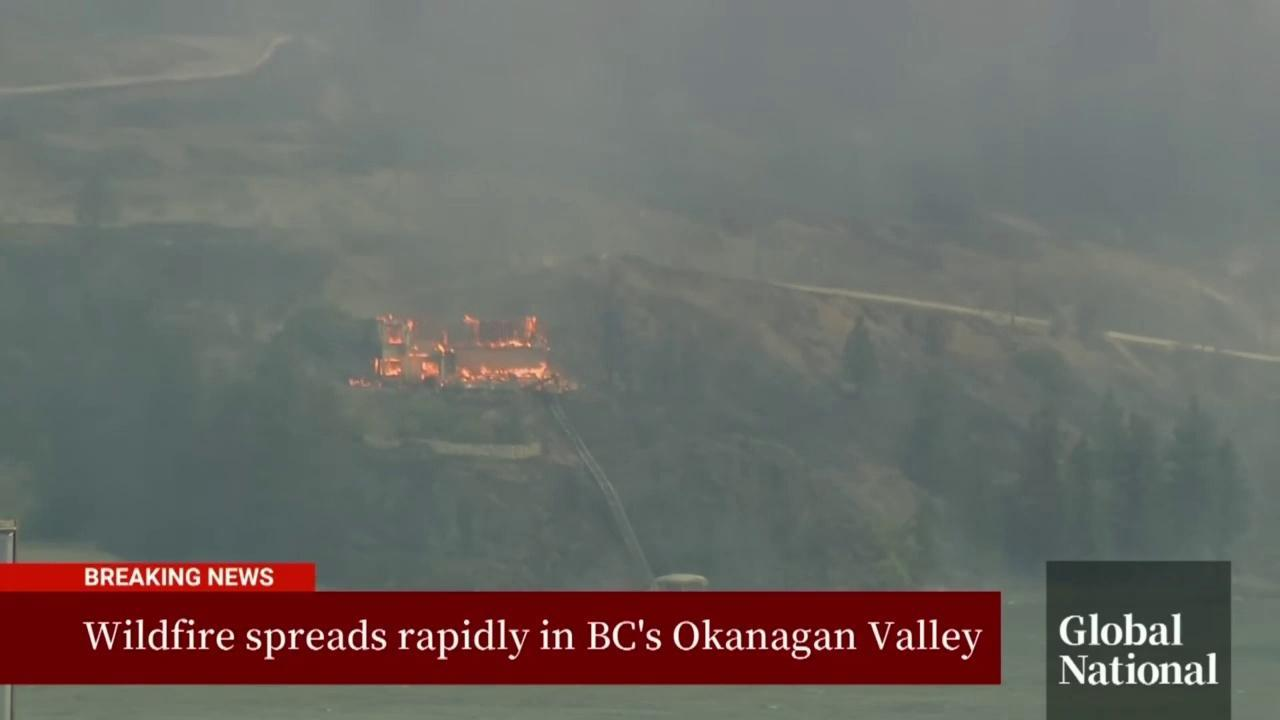fire: (463, 315, 536, 349), (456, 361, 550, 386), (375, 313, 405, 345), (374, 354, 403, 378), (419, 361, 440, 384), (435, 331, 451, 354), (408, 344, 429, 357), (347, 377, 371, 388), (407, 319, 414, 332)
